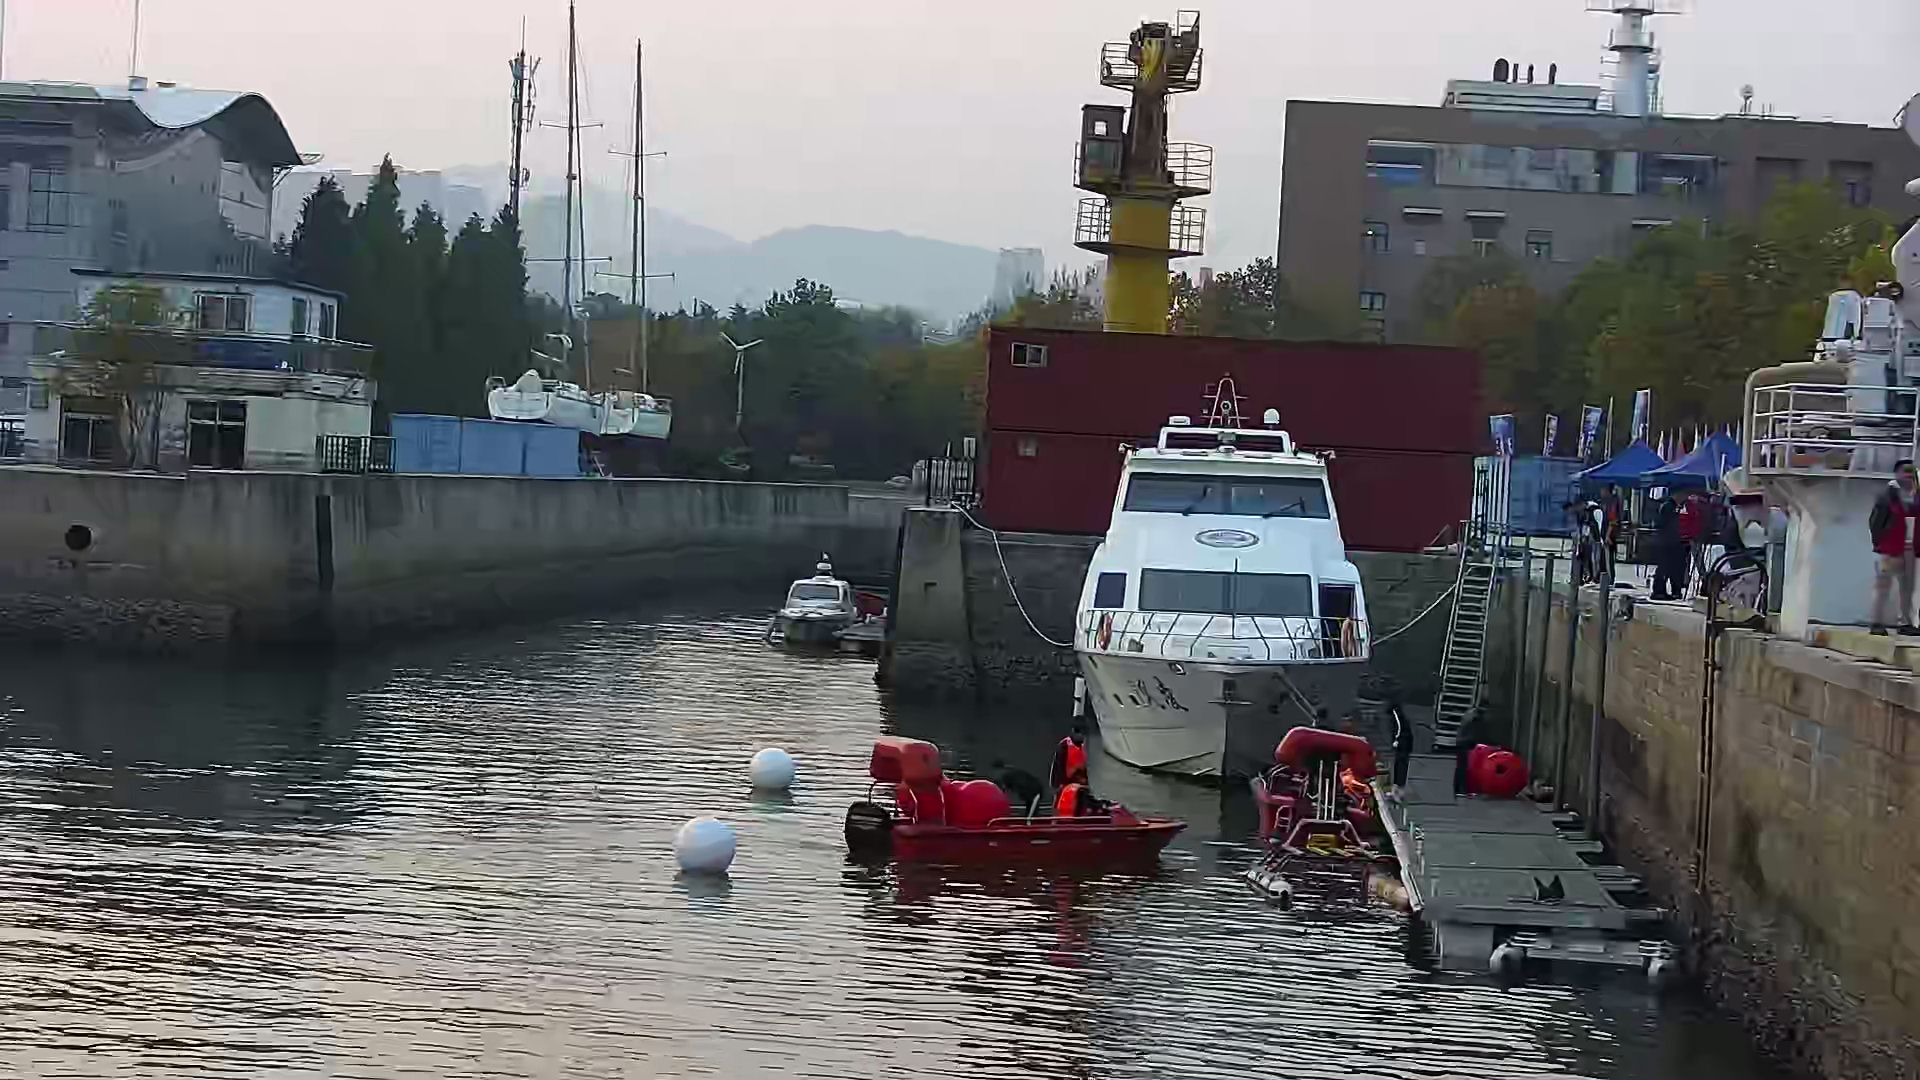ball: (671, 812, 738, 875), (748, 751, 801, 788)
boat: (847, 723, 1187, 879), (1244, 822, 1414, 925), (1483, 918, 1678, 1001)
harbor: (1347, 692, 1682, 979)
person: (1378, 685, 1418, 808), (990, 751, 1047, 830), (1050, 711, 1095, 784), (1053, 775, 1096, 822)
ship: (1067, 416, 1371, 785), (776, 550, 859, 649)
